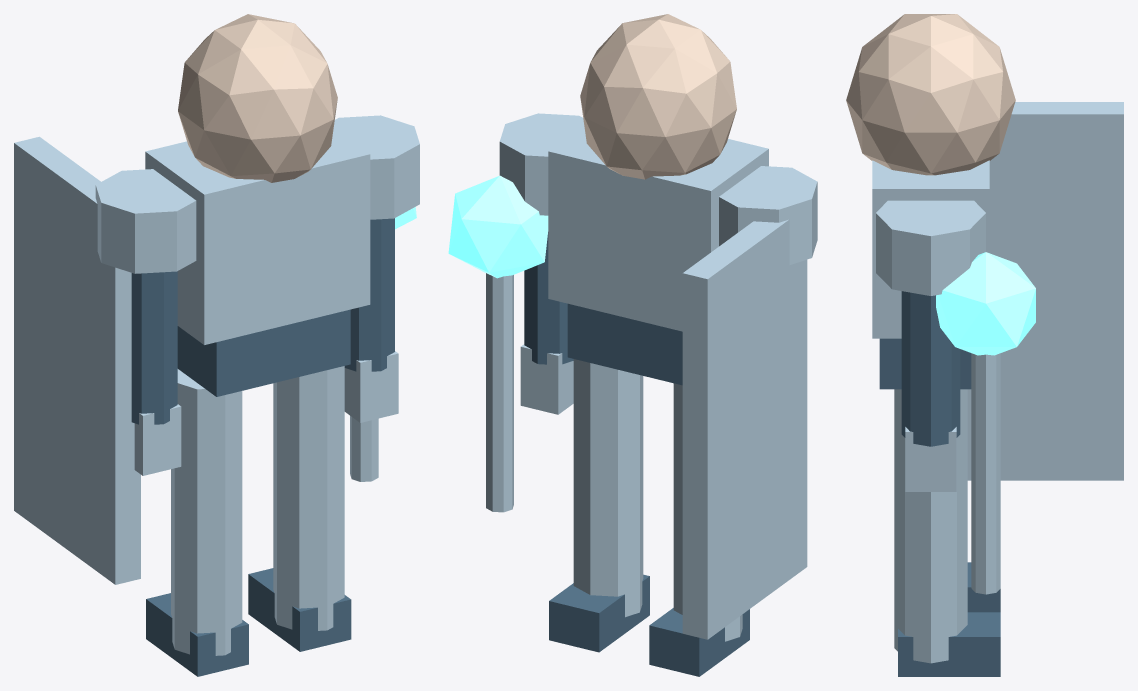
Rendered from hero_boreas.glb.
3 renders of one model, left to right at view 1: azimuth 30°, elevation 25°; view 2: azimuth 150°, elevation 25°; view 3: azimuth 270°, elevation 25°, orthographic. The views are drawn at different scales.
Parts seen in each view (by area): view 1: Cube.006, Cube, Icosphere, Cylinder.004, Cylinder.005, Cube.001, Cylinder, Cylinder.002, Cylinder.001, Cylinder.003, Cube.005, Cube.004 (+3 smaller); view 2: Cube.006, Cube, Icosphere, Cylinder.005, Icosphere.001, Cylinder.006, Cube.001, Cylinder, Cylinder.001, Cube.005, Cube.004, Cylinder.003 (+2 smaller); view 3: Cube.006, Icosphere, Cylinder.005, Cylinder.001, Cylinder.003, Icosphere.001, Cylinder.006, Cube, Cube.005, Cube.003, Cube.001, Cube.004.
Part boxes in pixels (left/top/right/bottom): Cube.006: left=14, top=136, right=140, bottom=584; Cube: left=145, top=127, right=370, bottom=344; Icosphere: left=178, top=14, right=337, bottom=182; Cylinder.004: left=171, top=369, right=242, bottom=655; Cylinder.005: left=273, top=366, right=344, bottom=630; Cube.001: left=177, top=309, right=350, bottom=396; Cylinder: left=95, top=169, right=196, bottom=273; Cylinder.002: left=131, top=271, right=177, bottom=424; Cylinder.001: left=334, top=115, right=419, bottom=219; Cylinder.003: left=344, top=218, right=394, bottom=371; Cube.005: left=248, top=568, right=351, bottom=651; Cube.004: left=146, top=593, right=248, bottom=676; Cube.006: left=682, top=219, right=807, bottom=639; Cube: left=548, top=125, right=768, bottom=331; Icosphere: left=580, top=14, right=736, bottom=179; Cylinder.005: left=573, top=359, right=643, bottom=617; Icosphere.001: left=448, top=175, right=548, bottom=278; Cylinder.006: left=486, top=273, right=513, bottom=512; Cube.001: left=567, top=303, right=682, bottom=385; Cylinder: left=719, top=166, right=817, bottom=264; Cylinder.001: left=499, top=113, right=583, bottom=215; Cube.005: left=549, top=574, right=649, bottom=652; Cube.004: left=649, top=608, right=749, bottom=676; Cylinder.003: left=524, top=232, right=573, bottom=364; Cube.006: left=967, top=102, right=1123, bottom=480; Icosphere: left=846, top=14, right=1015, bottom=175; Cylinder.005: left=894, top=389, right=967, bottom=663; Cylinder.001: left=876, top=200, right=985, bottom=295; Cylinder.003: left=901, top=291, right=960, bottom=446; Icosphere.001: left=936, top=252, right=1035, bottom=355; Cylinder.006: left=971, top=353, right=1000, bottom=594; Cube: left=872, top=160, right=989, bottom=338; Cube.005: left=898, top=612, right=1000, bottom=676; Cube.003: left=905, top=427, right=956, bottom=491; Cube.001: left=879, top=338, right=971, bottom=389; Cube.004: left=967, top=562, right=1000, bottom=612.
Size of the model in its own units: 1.05 by 1.87 by 0.756.
